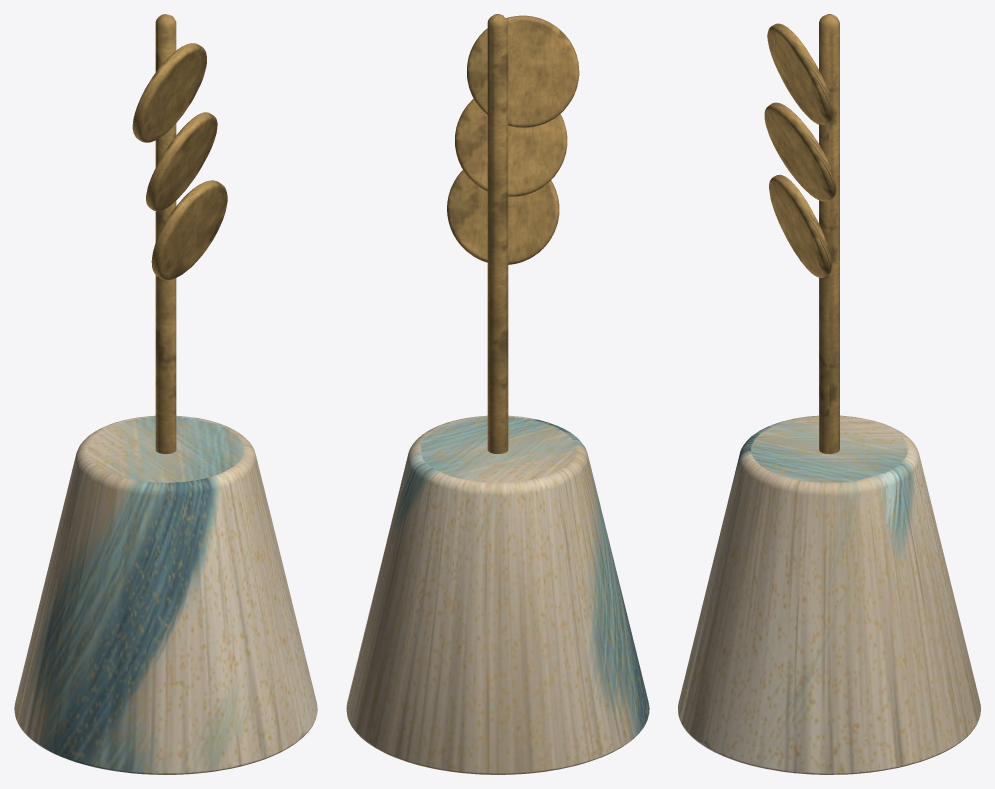
File: queen-white.glb
The picture shows the model from 3 angles, left to right: view 1: azimuth 30°, elevation 25°; view 2: azimuth 150°, elevation 25°; view 3: azimuth 270°, elevation 25°; orthographic projection.
Parts seen in each view (by area): view 1: Telo, Tyc, Mince_3, Mince_1, Mince_2; view 2: Telo, Tyc, Mince_1, Mince_2, Mince_3; view 3: Telo, Tyc, Mince_2, Mince_1, Mince_3.
Part boxes in pixels (left/top/right/bottom): Telo: left=14, top=415, right=317, bottom=774; Tyc: left=155, top=14, right=176, bottom=453; Mince_3: left=151, top=180, right=227, bottom=280; Mince_1: left=132, top=43, right=206, bottom=142; Mince_2: left=146, top=112, right=217, bottom=211; Telo: left=346, top=415, right=649, bottom=774; Tyc: left=487, top=14, right=508, bottom=453; Mince_1: left=467, top=15, right=579, bottom=127; Mince_2: left=455, top=98, right=567, bottom=196; Mince_3: left=447, top=170, right=559, bottom=264; Telo: left=678, top=415, right=980, bottom=774; Tyc: left=819, top=14, right=839, bottom=453; Mince_2: left=764, top=102, right=836, bottom=201; Mince_1: left=767, top=23, right=833, bottom=124; Mince_3: left=769, top=174, right=831, bottom=277.
Size of the model in its own units: 0.6384 by 1.62 by 0.638.
Materials: 3 (3 with a texture image).
